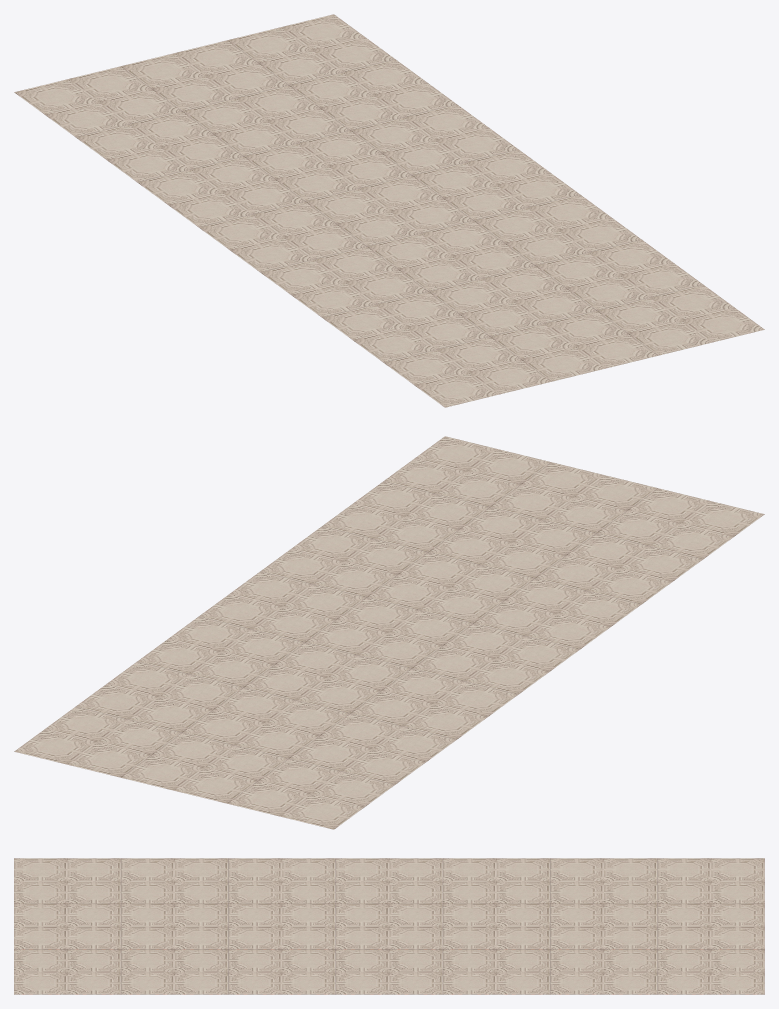
The model's file is ceiling-set-room-3.obj.
3 renders of one model, top to bottom at view 1: azimuth 30°, elevation 25°; view 2: azimuth 150°, elevation 25°; view 3: azimuth 270°, elevation 25°, orthographic. The views are drawn at different scales.
Visible parts, largest first — view 1: ceiling-set-room-3_Plane.013; view 2: ceiling-set-room-3_Plane.013; view 3: ceiling-set-room-3_Plane.013.
Part boxes in pixels (x1=…): ceiling-set-room-3_Plane.013: x1=14, y1=14, x2=764, y2=407; ceiling-set-room-3_Plane.013: x1=14, y1=436, x2=764, y2=829; ceiling-set-room-3_Plane.013: x1=14, y1=858, x2=764, y2=994.
Size of the model in its own units: 12 by 0 by 28.
Materials: 1 (1 with a texture image).
